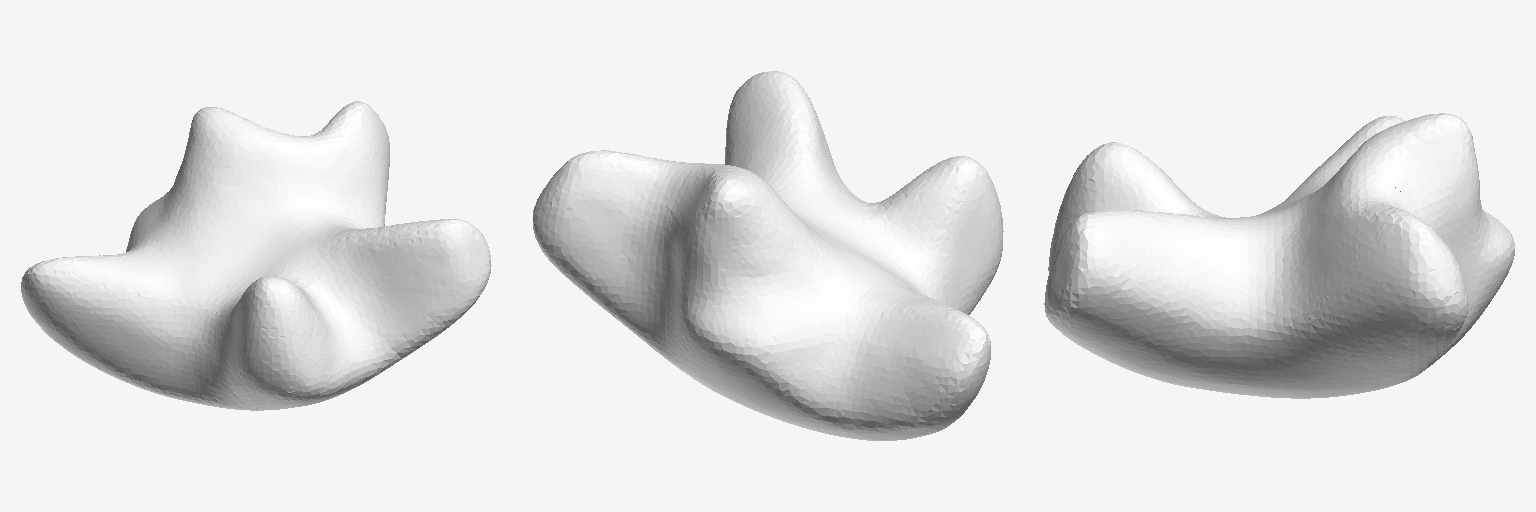
The robot description file, URDF, robot "feelie6":
<robot name="feelie6">
	<link name="_name">
		<visual>
			<origin rpy="0 0 0" xyz="-0.0034735884084461034 -0.0030890300353995943 0.004129456209490769" />
			<geometry>
				<mesh filename="feelie6.obj" scale="0.001 0.001 0.001" />
			</geometry>
			<material name="texture">
				<color rgba="1.0 1.0 1.0 1.0" />
			</material>
		</visual>
		<collision>
			<geometry>
				<mesh filename="feelie6_vhacd.obj" scale="0.001 0.001 0.001" />
			</geometry>
		<origin rpy="0 0 0" xyz="-0.0034735884084461034 -0.0030890300353995943 0.004129456209490769" /></collision>
		<inertial>
			<mass value="1.0" />
			<inertia ixx="1.0" ixy="0.0" ixz="0.0" iyy="1.0" iyz="0.0" izz="1.0" />
		</inertial>
	</link>
</robot>

--- Facts derived from the render (not from the file) ---
Views: 3 orthographic renders of the robot side by side, from view 1: azimuth 30°, elevation 25°; view 2: azimuth 150°, elevation 25°; view 3: azimuth 270°, elevation 25°.
Model feelie6 with 1 links and 0 joints (none), rooted at _name, posed all joints at 0.
Visible links, largest first — view 1: _name; view 2: _name; view 3: _name.
Boxes of the visible links, x1,y1,x2,y2 form: _name: (21,101,491,410); _name: (533,71,1003,440); _name: (1044,113,1514,398).
Bounding box of the posed robot: 0.0994 × 0.0861 × 0.0583 m (x, y, z).
Meshes: 1 distinct files referenced, 1 mesh visuals loaded (1 OBJ).
